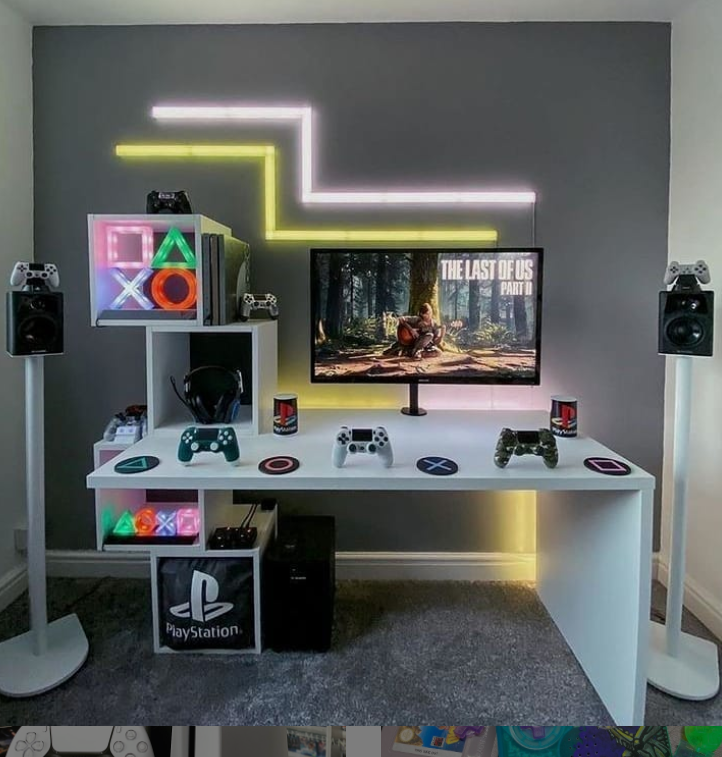gamingconsole: (495, 427, 560, 470), (333, 428, 393, 473), (179, 428, 237, 465)
